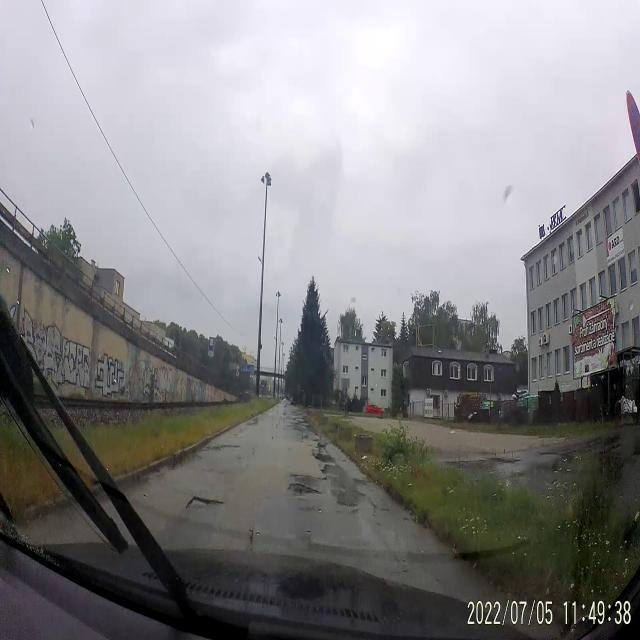Pothole: (184, 488, 222, 514), (288, 476, 318, 504), (339, 499, 360, 519)
